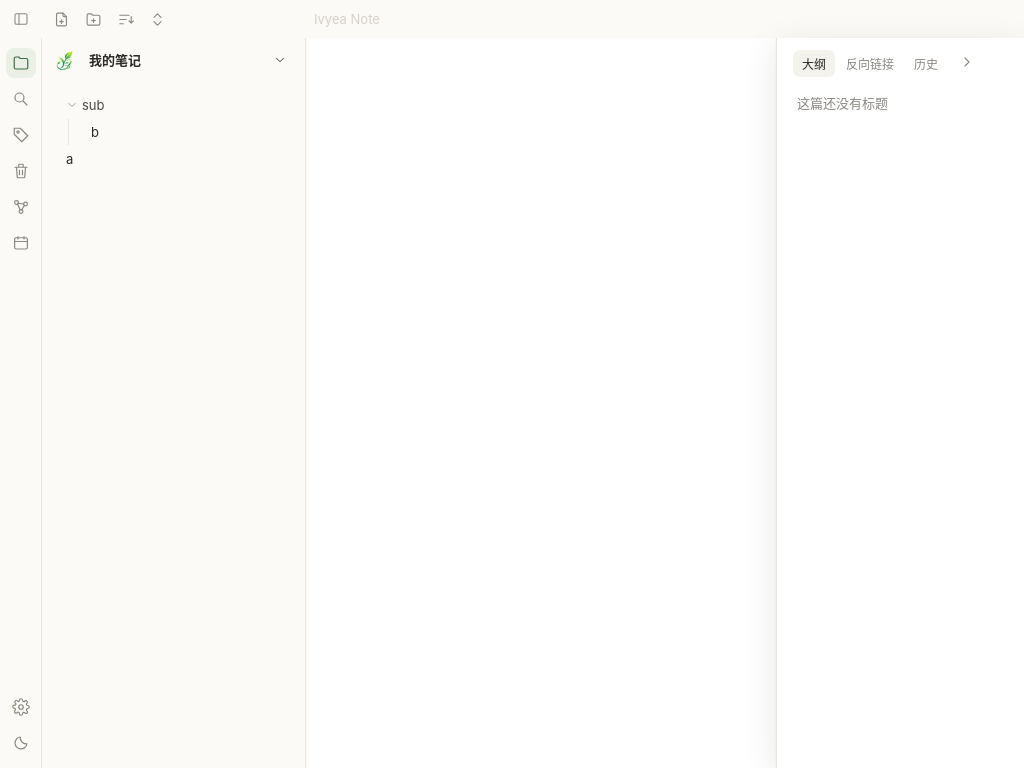
Scenario: 右键上下文菜单（E3） › 右键文件 → 出现文件动作集（v0.7.8 桌面端根本没有重命名入口）
Right-click the element with class "ft-file" showing "a".
right_click(70, 159)  # box [66,151,73,167]
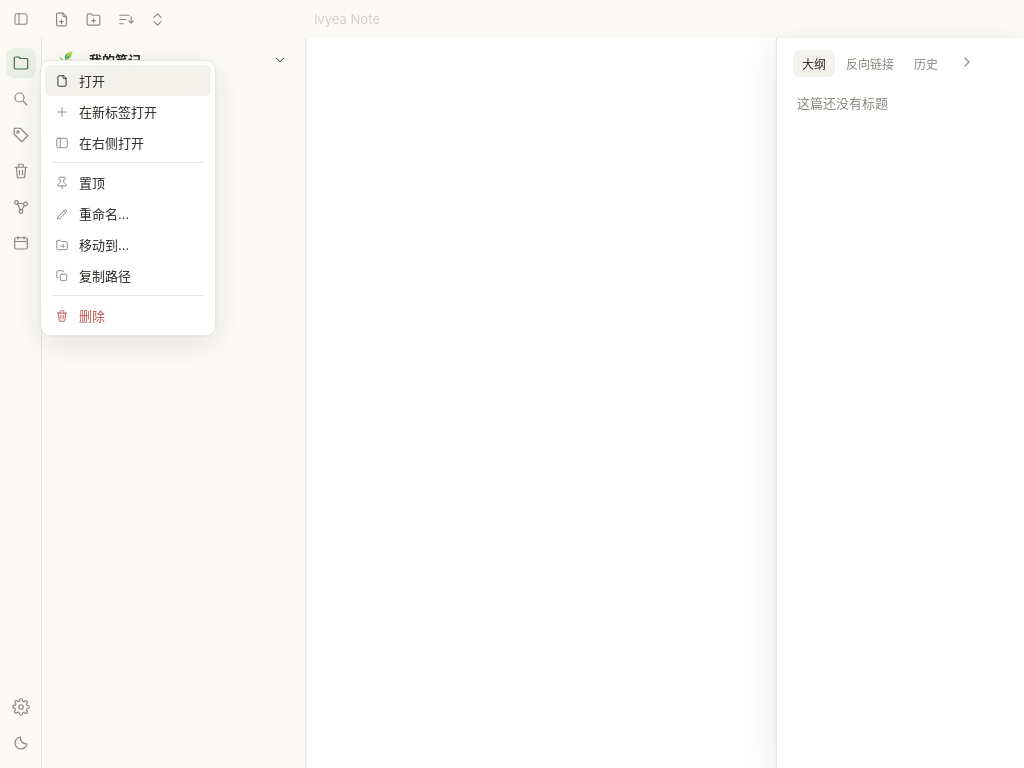
Result: the menu is shown at [40,60,216,336]
